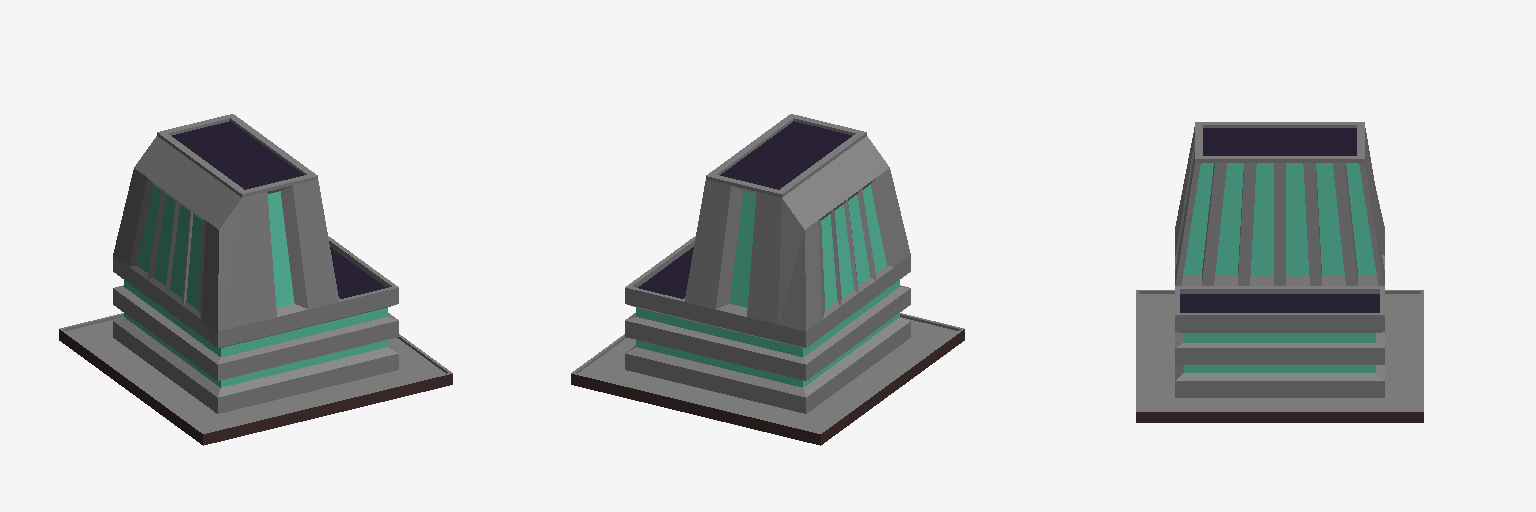
3 views of the same model, side by side, from view 1: azimuth 30°, elevation 25°; view 2: azimuth 150°, elevation 25°; view 3: azimuth 270°, elevation 25° (orthographic).
Visible parts, largest first — view 1: house_Cube; view 2: house_Cube; view 3: house_Cube.
Boxes of the visible parts, x1=… form: house_Cube: x1=59, y1=114, x2=452, y2=445; house_Cube: x1=571, y1=114, x2=964, y2=445; house_Cube: x1=1136, y1=122, x2=1423, y2=422.
Bounding box in the file's own units: 2 × 1.63 × 2.
1 materials, 1 textured.